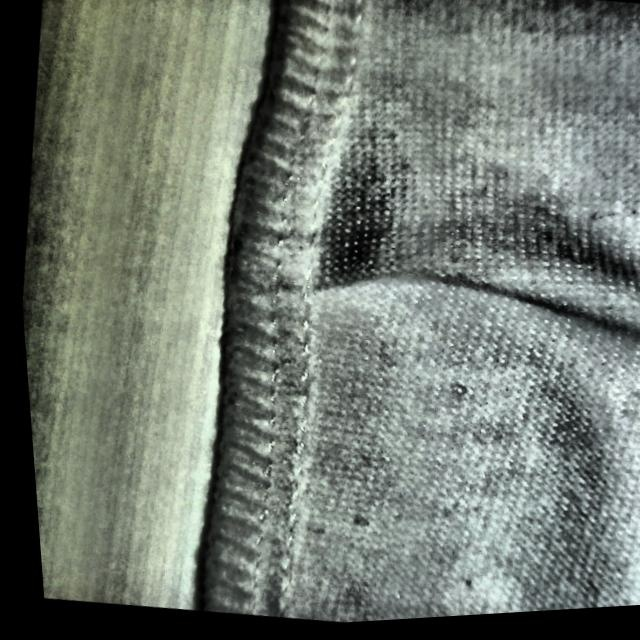seam: (210, 155, 591, 376)
